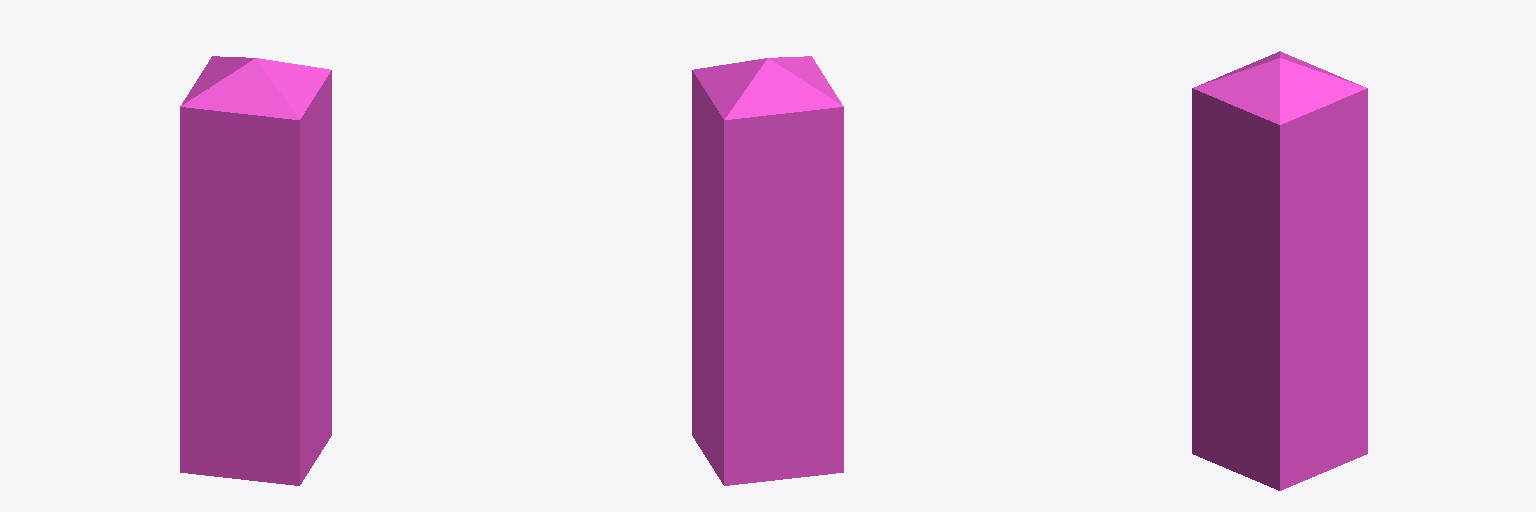
3 renders of one model, left to right at view 1: azimuth 30°, elevation 25°; view 2: azimuth 150°, elevation 25°; view 3: azimuth 270°, elevation 25°, orthographic.
Parts seen in each view (by area): view 1: Thigh; view 2: Thigh; view 3: Thigh.
Boxes of the visible parts, x1=… form: Thigh: x1=180, y1=56, x2=331, y2=485; Thigh: x1=692, y1=56, x2=843, y2=485; Thigh: x1=1192, y1=51, x2=1367, y2=490.
Bounding box in the file's own units: 0.531 × 1.32 × 0.531.
Materials: 1 (1 with a texture image).